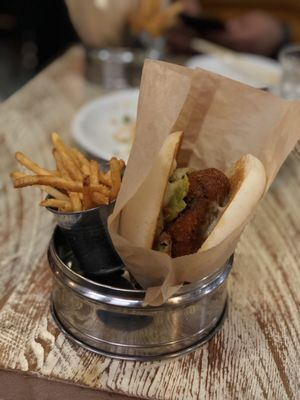curry: (0, 3, 299, 362), (0, 84, 300, 399)
